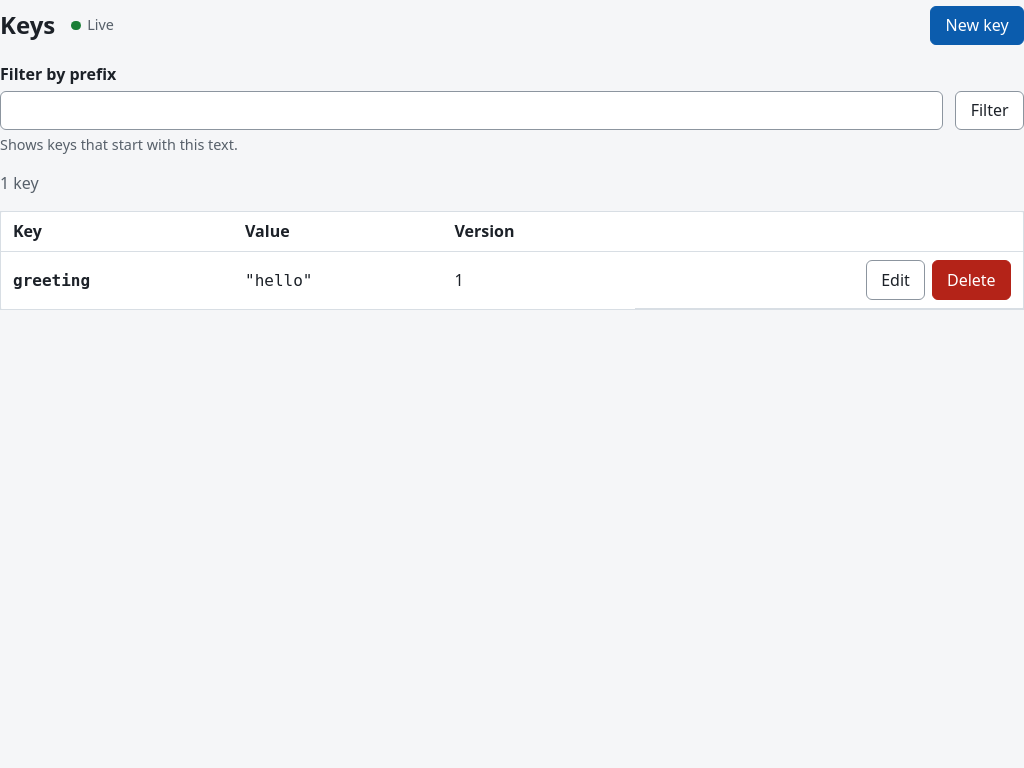
Test case: KeysView › conflict dialog (412) › Overwrite that races again shows the newest value instead of failing silently
The width and height of the screenshot is (1024, 768).
Click the button with aria-label "Edit greeting" at (896, 280), box [866,260,925,300]
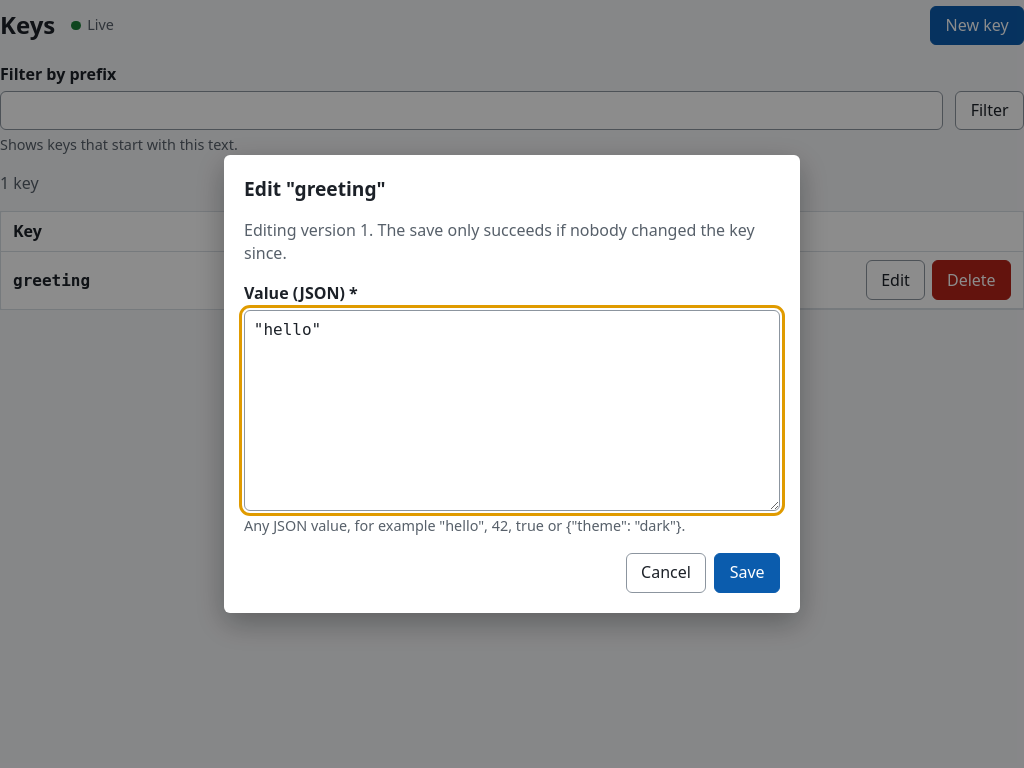
Replace the text in the text box labelled "Value (JSON) *" with "\"my careful edit\"" at (512, 410), box [244,310,780,511]
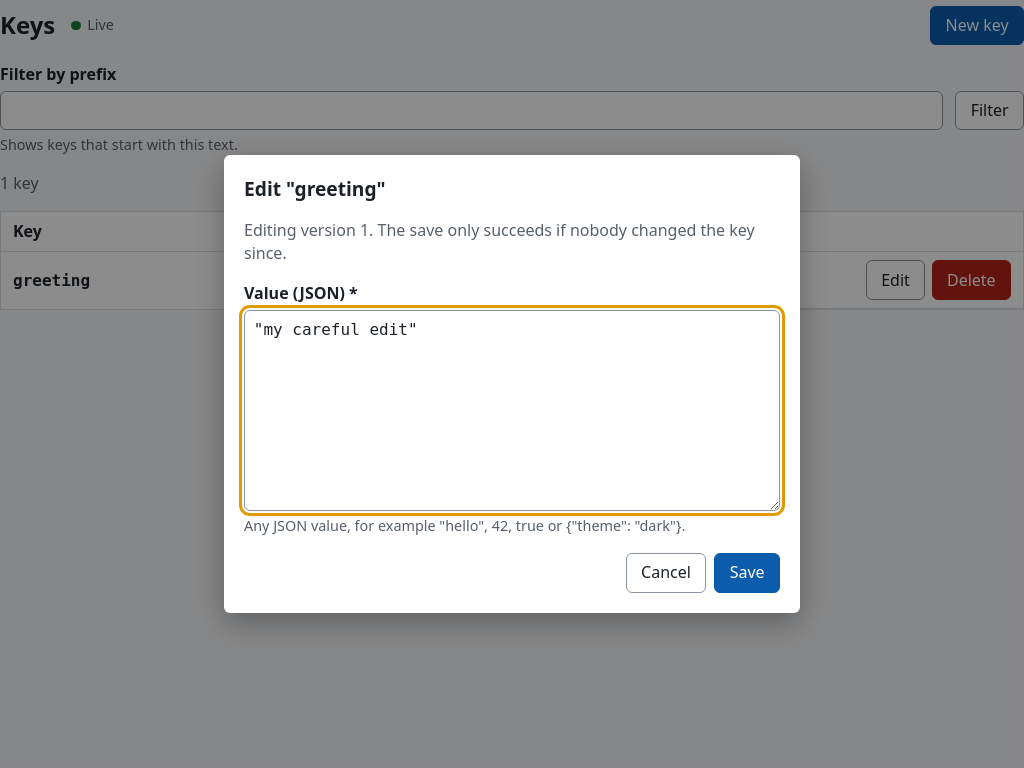
Submit the form with id "key-editor", box [244,219,780,537]
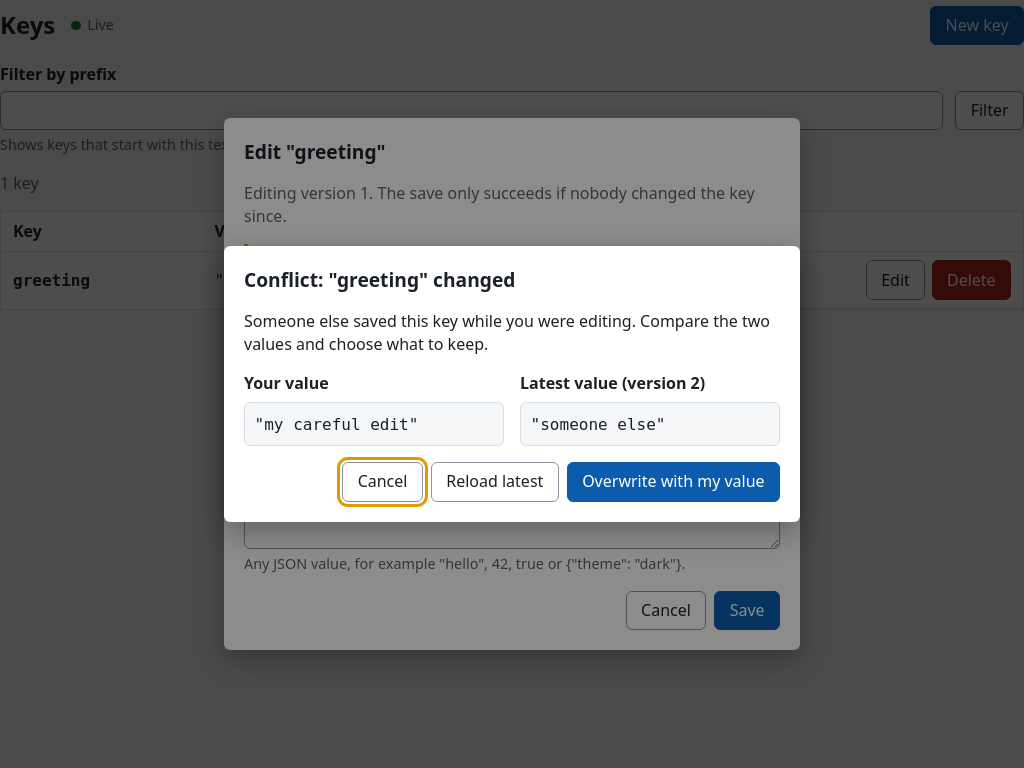
Click the button "Overwrite with my value" at (673, 482), box [567,462,780,502]
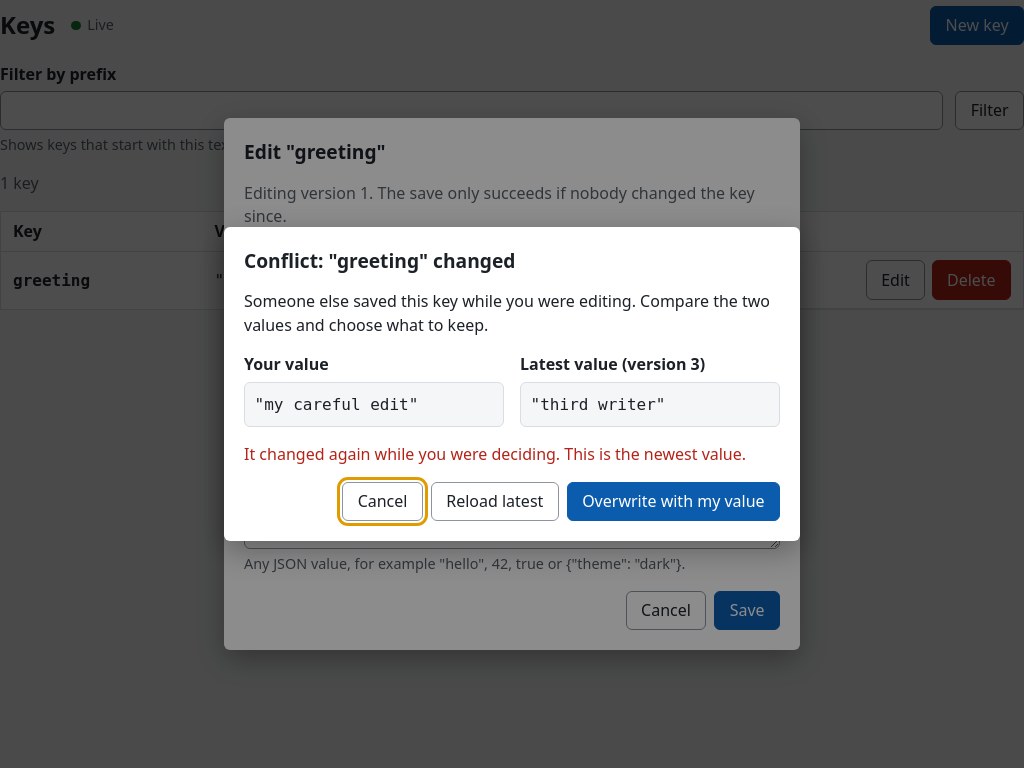
Result: the dialog shows "\"third writer\"" at [531,395,666,414]
Result: the message "It changed again while you were deciding. This is the newest value." is shown at [244,443,780,466]
